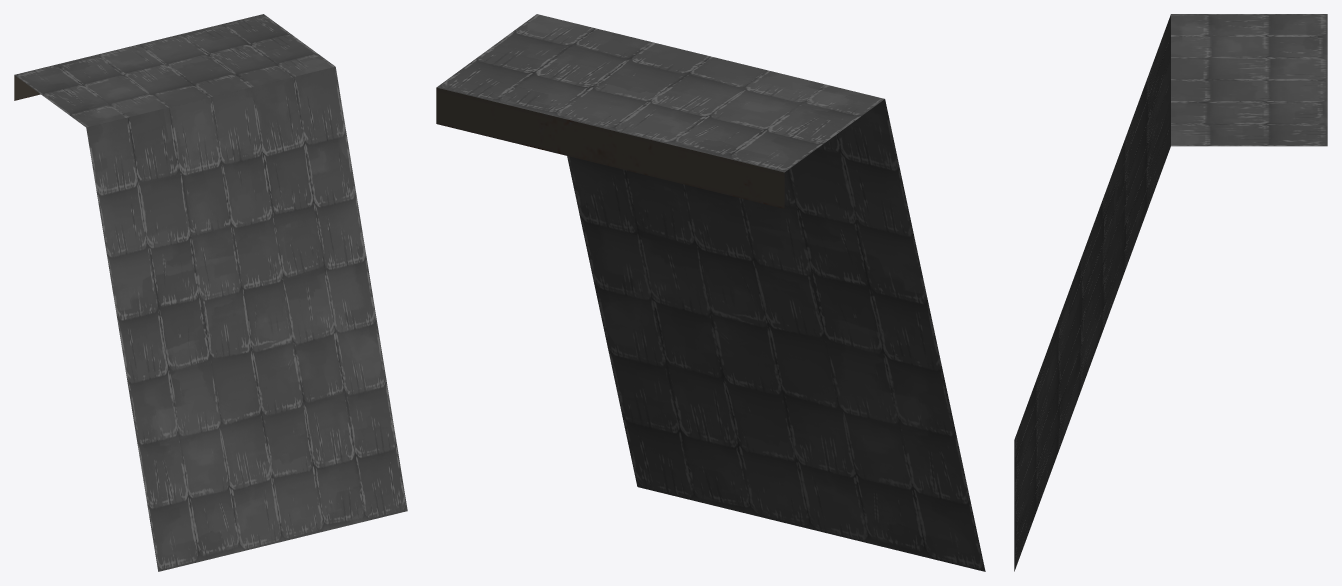
File: q-downtown-roof-slate-center.glb
3 views of the same model, side by side, from view 1: azimuth 30°, elevation 25°; view 2: azimuth 150°, elevation 25°; view 3: azimuth 270°, elevation 25° (orthographic). The views are drawn at different scales.
Visible parts, largest first — view 1: Roof_Slate_Center; view 2: Roof_Slate_Center; view 3: Roof_Slate_Center.
Boxes of the visible parts, x1,y1,x2,y2 form: Roof_Slate_Center: (14,14,407,571); Roof_Slate_Center: (436,14,985,571); Roof_Slate_Center: (1014,14,1327,571).
Size of the model in its own units: 2 by 3 by 2.
Materials: 2 (2 with a texture image).
